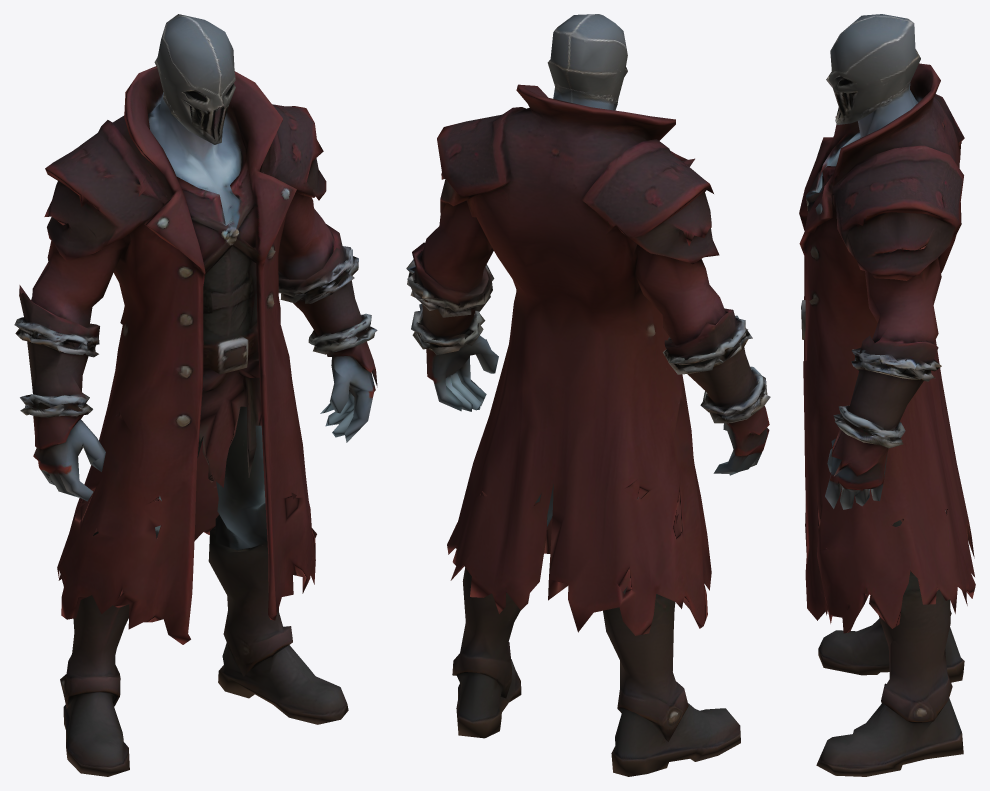
The model's file is elite.glb.
3 views of the same model, side by side, from view 1: azimuth 30°, elevation 25°; view 2: azimuth 150°, elevation 25°; view 3: azimuth 270°, elevation 25° (orthographic).
Visible parts, largest first — view 1: tripo_node_1b73535e-e4dd-408d-94ad-da6fd65d8ea1; view 2: tripo_node_1b73535e-e4dd-408d-94ad-da6fd65d8ea1; view 3: tripo_node_1b73535e-e4dd-408d-94ad-da6fd65d8ea1.
Part boxes in pixels (left/top/right/bottom): tripo_node_1b73535e-e4dd-408d-94ad-da6fd65d8ea1: left=14, top=14, right=377, bottom=776; tripo_node_1b73535e-e4dd-408d-94ad-da6fd65d8ea1: left=406, top=14, right=770, bottom=776; tripo_node_1b73535e-e4dd-408d-94ad-da6fd65d8ea1: left=799, top=14, right=975, bottom=776.
Size of the model in its own units: 0.5115 by 1 by 0.2295.
Materials: 1 (1 with a texture image).
